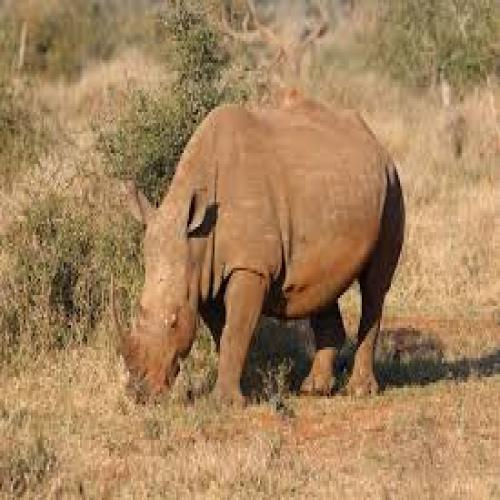rhino-endangered: (108, 90, 408, 412)
